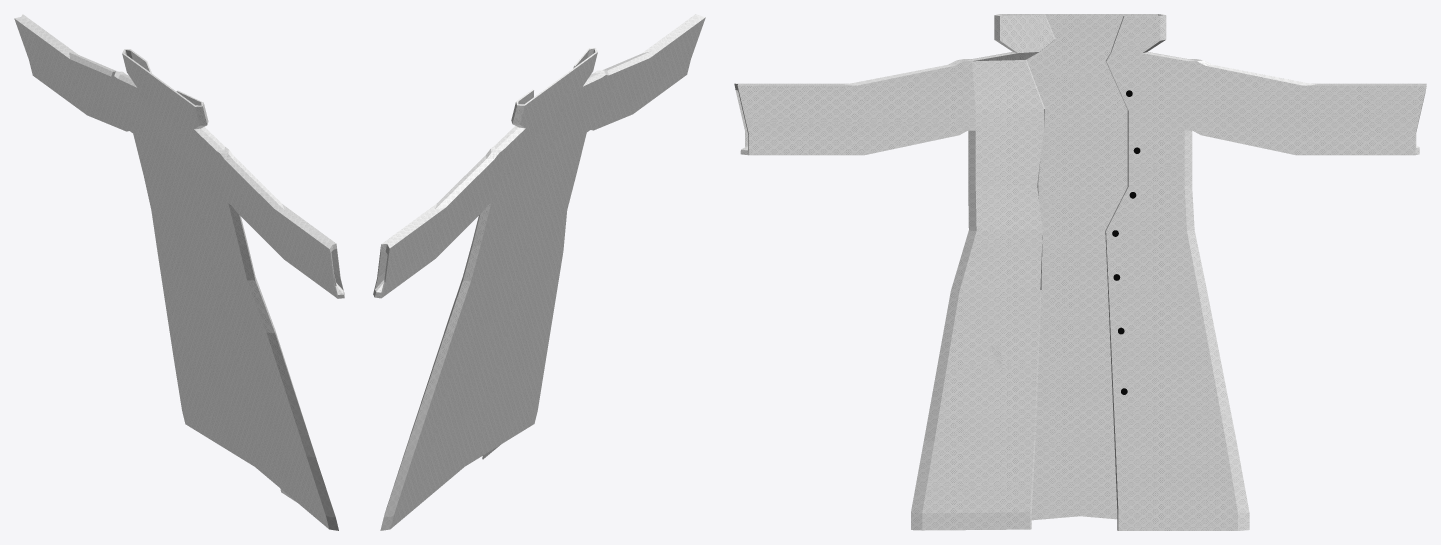
Rendered from bata_lab1.fbx.
3 views of the same model, side by side, from view 1: azimuth 30°, elevation 25°; view 2: azimuth 150°, elevation 25°; view 3: azimuth 270°, elevation 25° (orthographic). The views are drawn at different scales.
Visible parts, largest first — view 1: labcoat:Mesh; view 2: labcoat:Mesh; view 3: labcoat:Mesh.
Boxes of the visible parts, <box> form: labcoat:Mesh: <box>14,14,344,530</box>; labcoat:Mesh: <box>373,14,705,530</box>; labcoat:Mesh: <box>734,14,1426,530</box>.
Size of the model in its own units: 1.3 by 4.91 by 6.63.
Materials: 2 (1 with a texture image).
